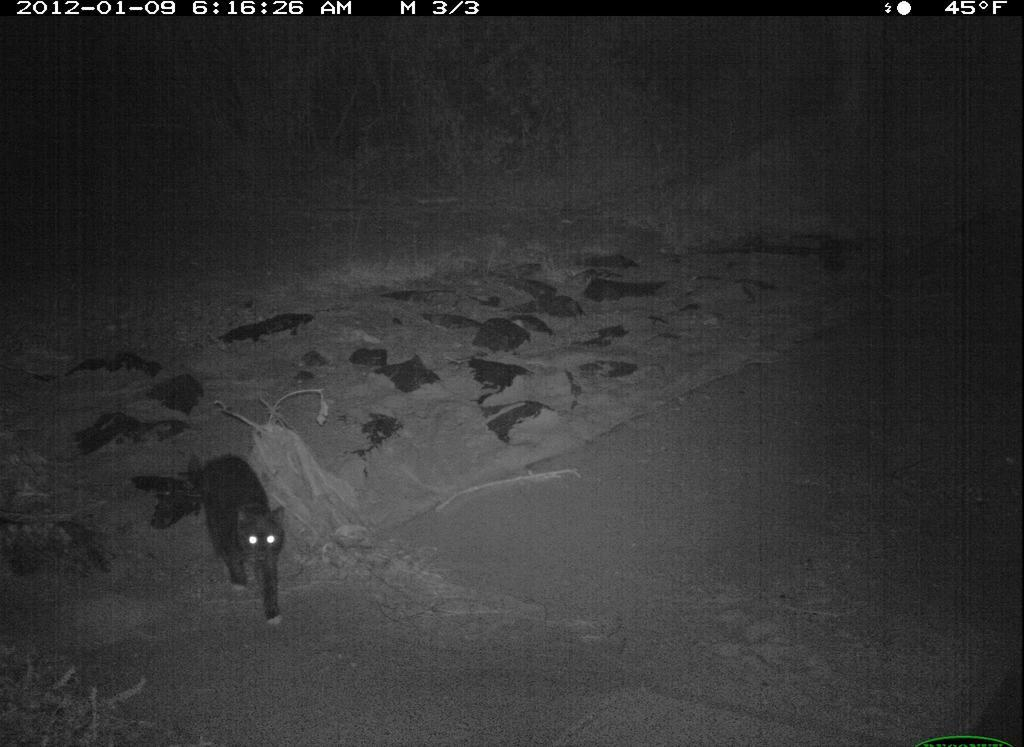cat: (178, 446, 312, 626)
